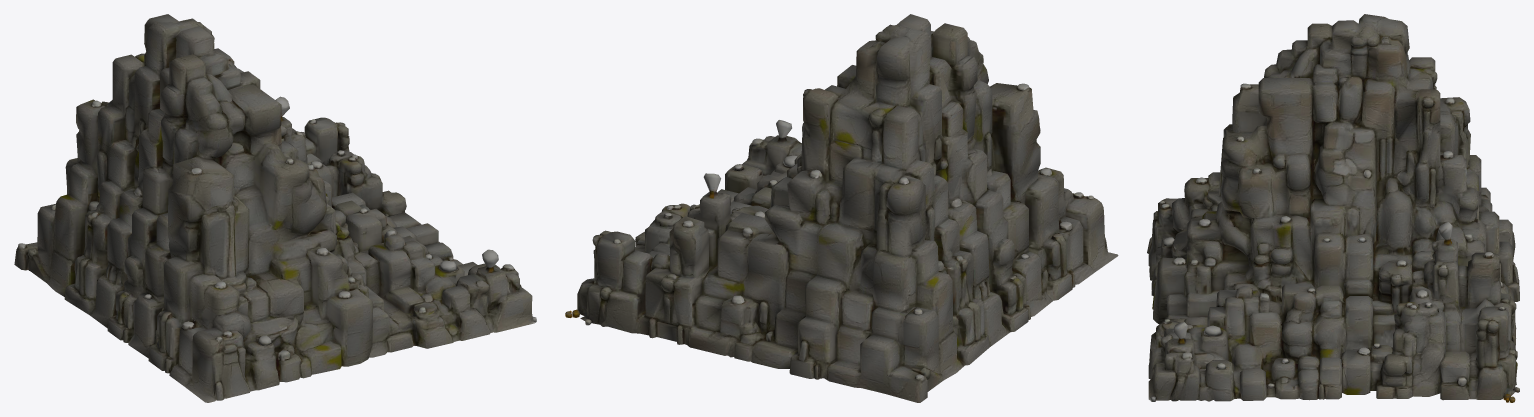
The picture shows the model from 3 angles, left to right: view 1: azimuth 30°, elevation 25°; view 2: azimuth 150°, elevation 25°; view 3: azimuth 270°, elevation 25°; orthographic projection. The views are drawn at different scales.
Visible parts, largest first — view 1: tripo_node_2c776e81-ecdd-4991-959d-ce3c5da2a32f; view 2: tripo_node_2c776e81-ecdd-4991-959d-ce3c5da2a32f; view 3: tripo_node_2c776e81-ecdd-4991-959d-ce3c5da2a32f.
Boxes of the visible parts, x1,y1,x2,y2 form: tripo_node_2c776e81-ecdd-4991-959d-ce3c5da2a32f: [14, 14, 536, 402]; tripo_node_2c776e81-ecdd-4991-959d-ce3c5da2a32f: [565, 14, 1118, 402]; tripo_node_2c776e81-ecdd-4991-959d-ce3c5da2a32f: [1147, 14, 1519, 402].
Size of the model in its own units: 0.998 by 0.7832 by 0.998.
1 material, 1 textured.
